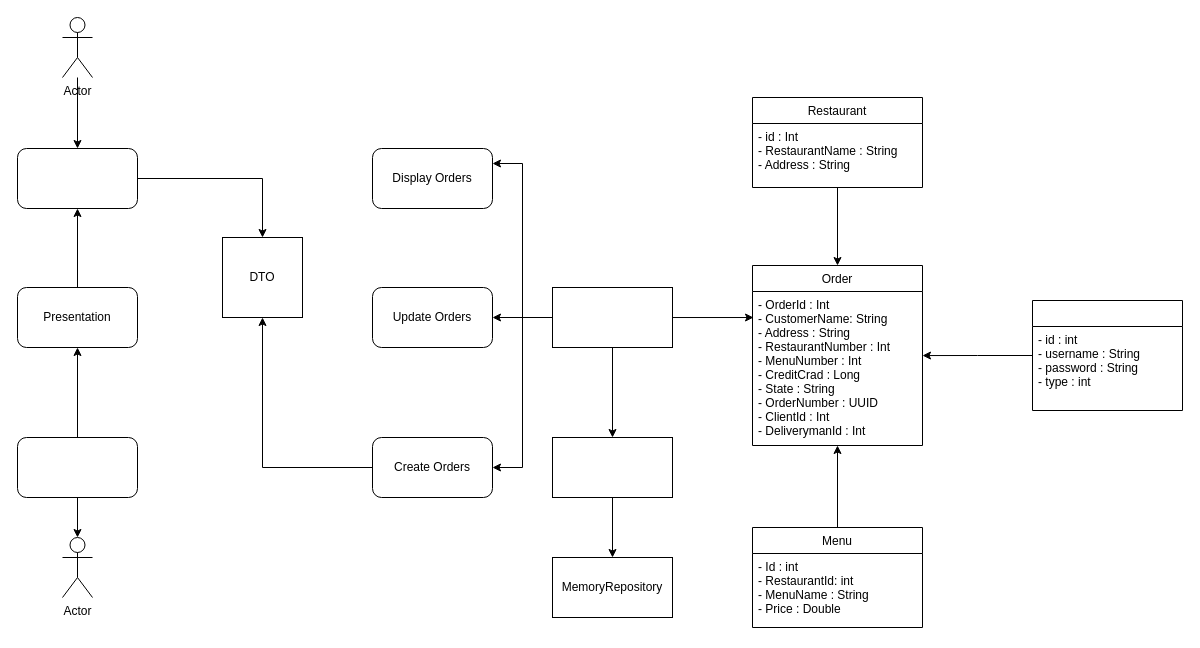
This 1200x648 diagram has some shape labels left out. Here are the shapes that lost their labels. From the top down, the box of each, then its label:
(16, 148, 138, 208): Controller
(552, 286, 672, 348): USE case Interactor
(1032, 300, 1182, 410): UserAccount
(16, 436, 138, 498): View
(552, 436, 672, 498): IRepository
